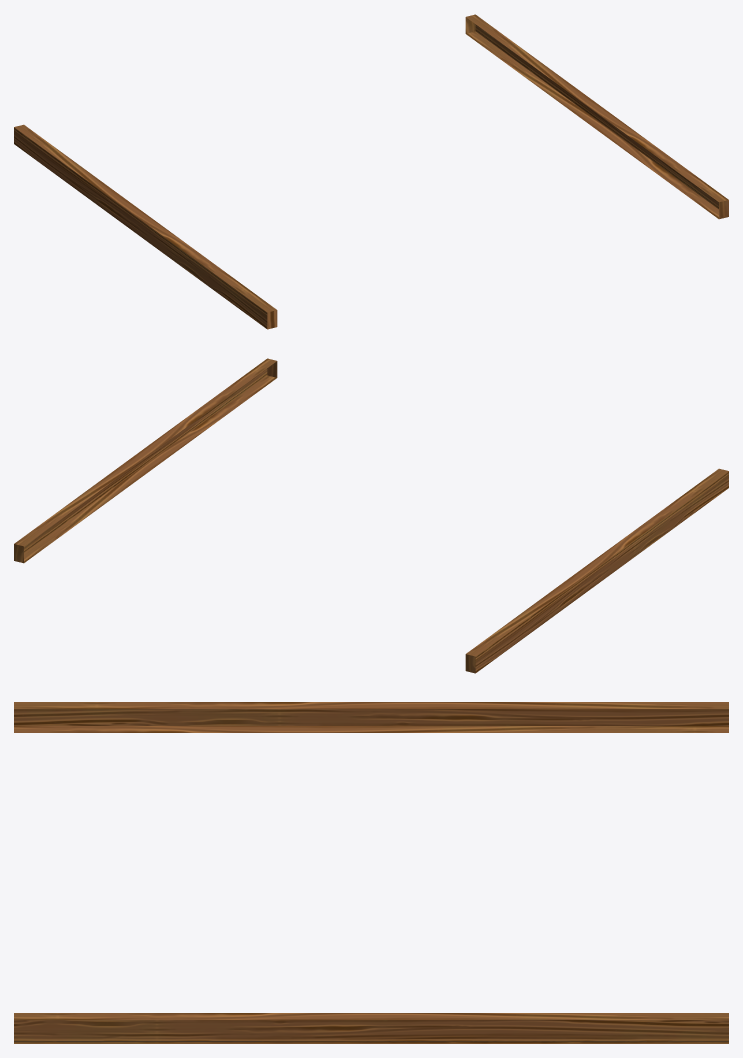
The picture shows the model from 3 angles, top to bottom: view 1: azimuth 30°, elevation 25°; view 2: azimuth 150°, elevation 25°; view 3: azimuth 270°, elevation 25°; orthographic projection. The views are drawn at different scales.
Parts seen in each view (by area): view 1: Cube.1609; view 2: Cube.1609; view 3: Cube.1609.
Part boxes in pixels (x1=…): Cube.1609: x1=14, y1=14, x2=728, y2=329; Cube.1609: x1=14, y1=358, x2=728, y2=673; Cube.1609: x1=14, y1=702, x2=728, y2=1043.
Bounding box in the file's own units: 684 × 24.05 × 651.
1 material, 1 textured.
